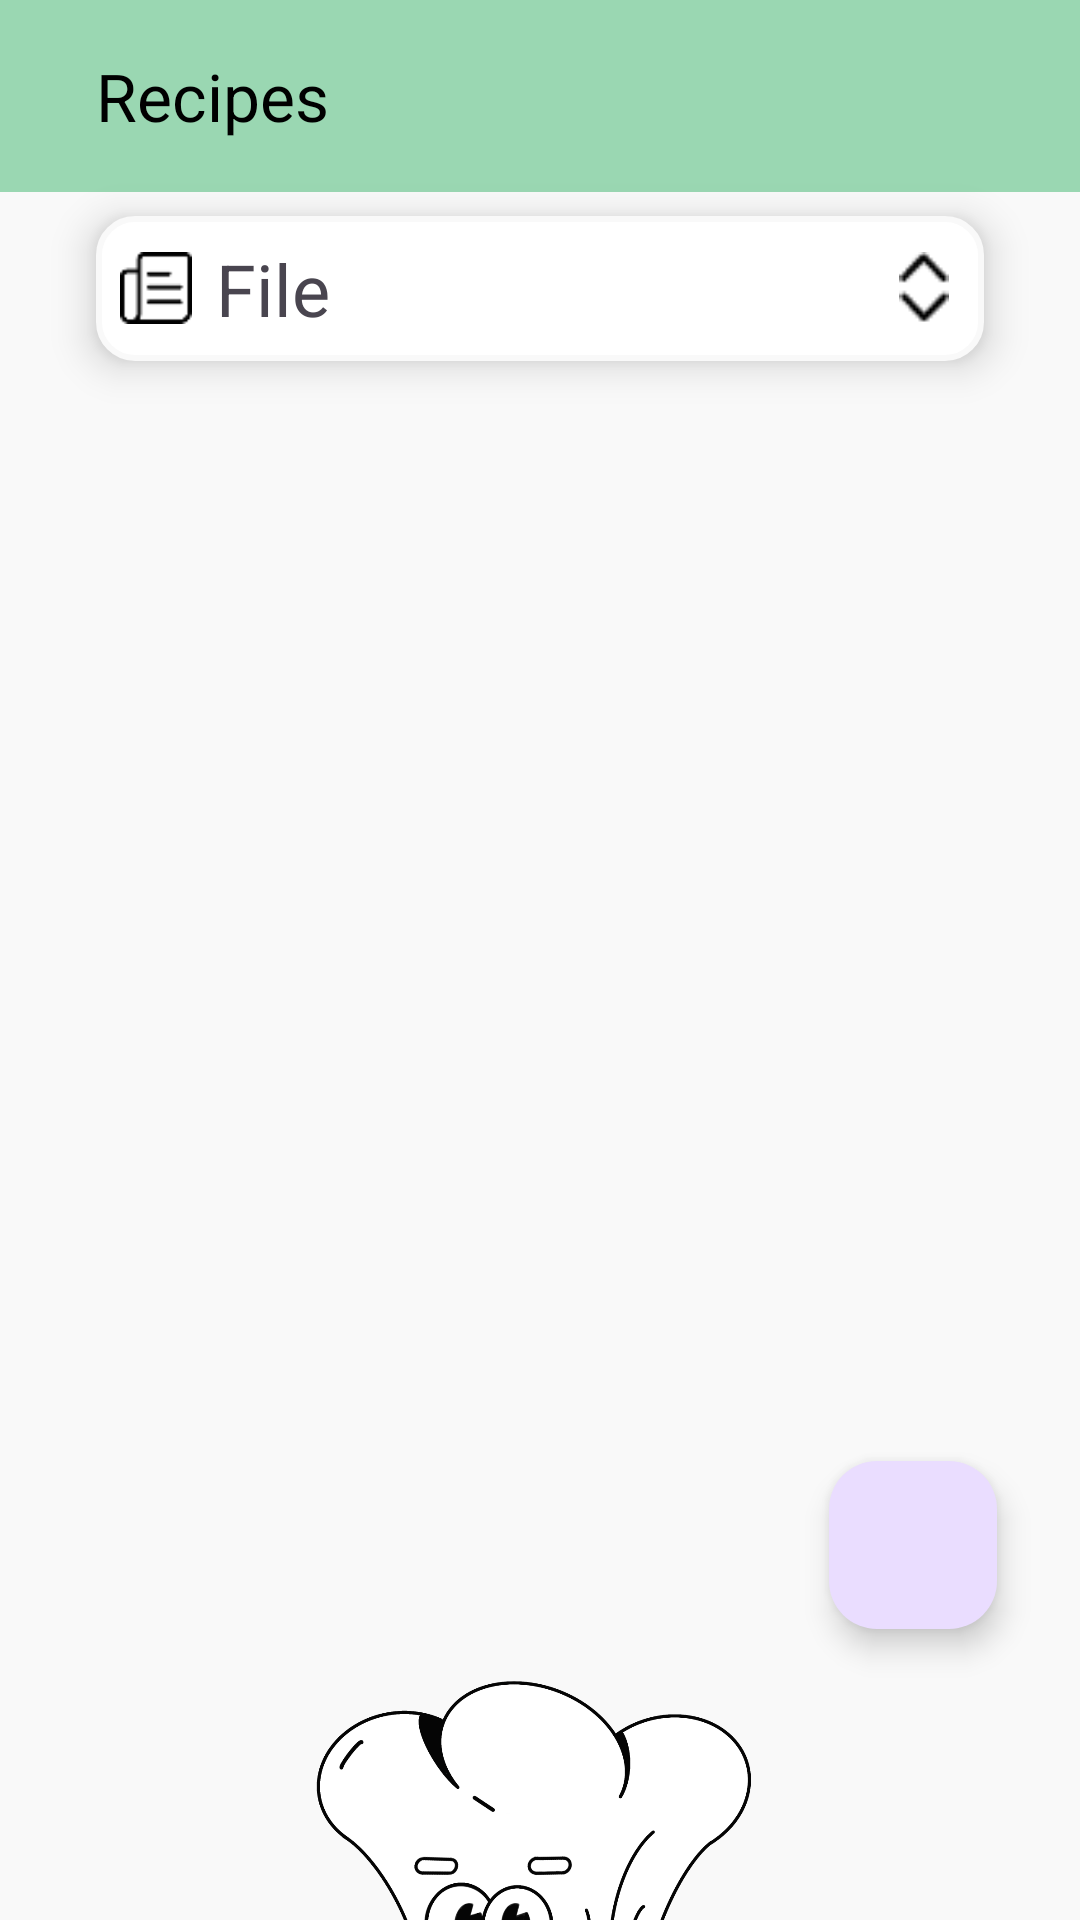

Where icons sit on this 1080px×1920px app screen, as (x1=x1, y1=y1, x2=x2, y2=y2):
dropdown: (x1=899, y1=252, x2=949, y2=322)
